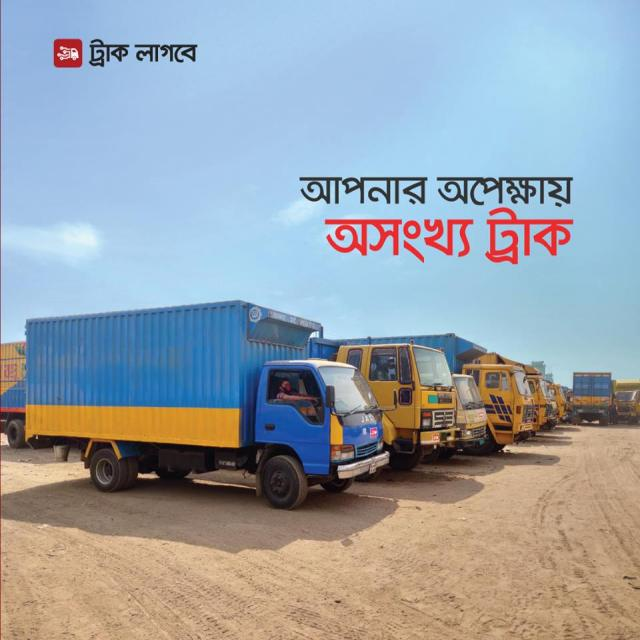truck: (16, 301, 388, 511), (358, 338, 457, 462), (477, 352, 536, 443), (452, 367, 490, 455), (569, 368, 619, 429), (543, 377, 569, 428)
